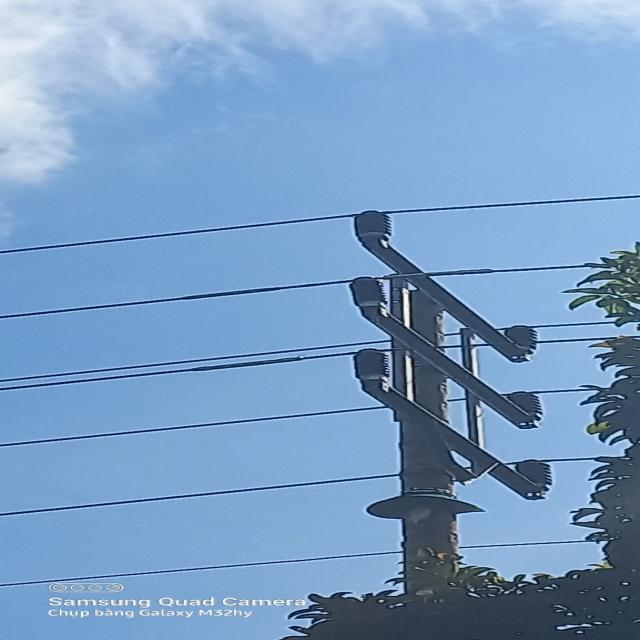wire: (0, 193, 637, 257), (0, 336, 609, 393), (0, 264, 588, 321), (0, 539, 587, 588), (1, 338, 392, 383), (0, 405, 390, 449), (495, 320, 617, 330), (499, 387, 602, 397), (503, 456, 595, 466)
